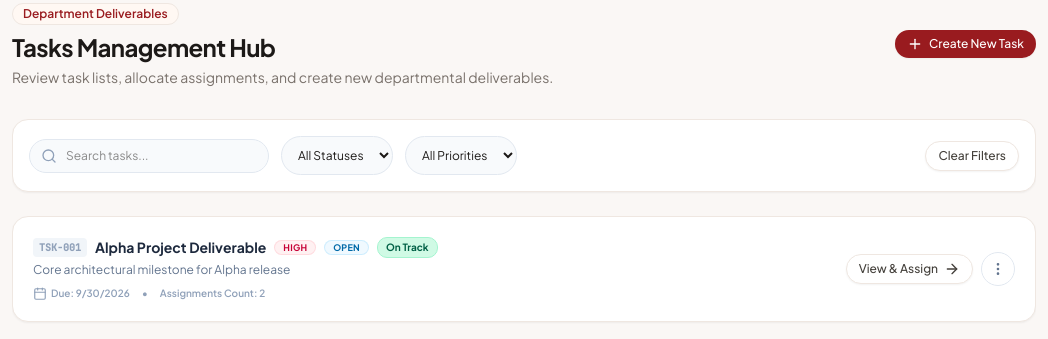
Test case: Director Task Archive Flow — UI Specifications › 3, 4 & 5: Clicking [ ⋮ ] opens dropdown menu with Edit Task and Archive Task, and NEVER Delete Task
Expected: the heading "Alpha Project Deliverable" is shown, [95, 238, 266, 257]
Click More Actions
Click the button with test id "task-actions-btn-task-1". click: (998, 269)
box: [981, 252, 1015, 286]
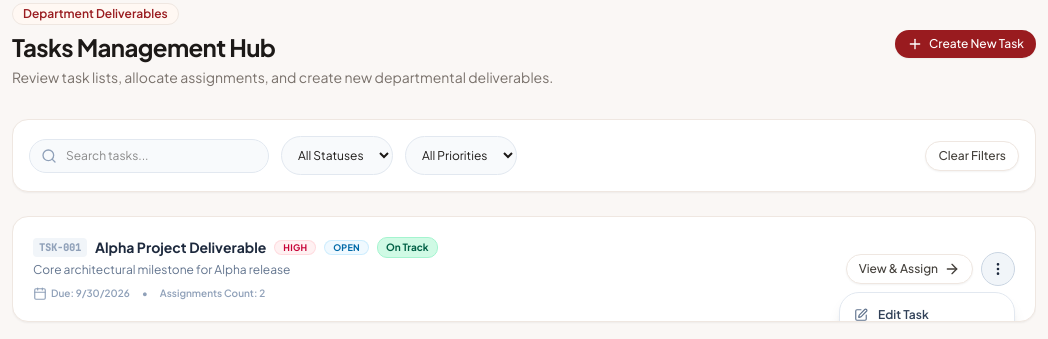
Now the button "Edit Task" is shown, box [840, 299, 1014, 322]
